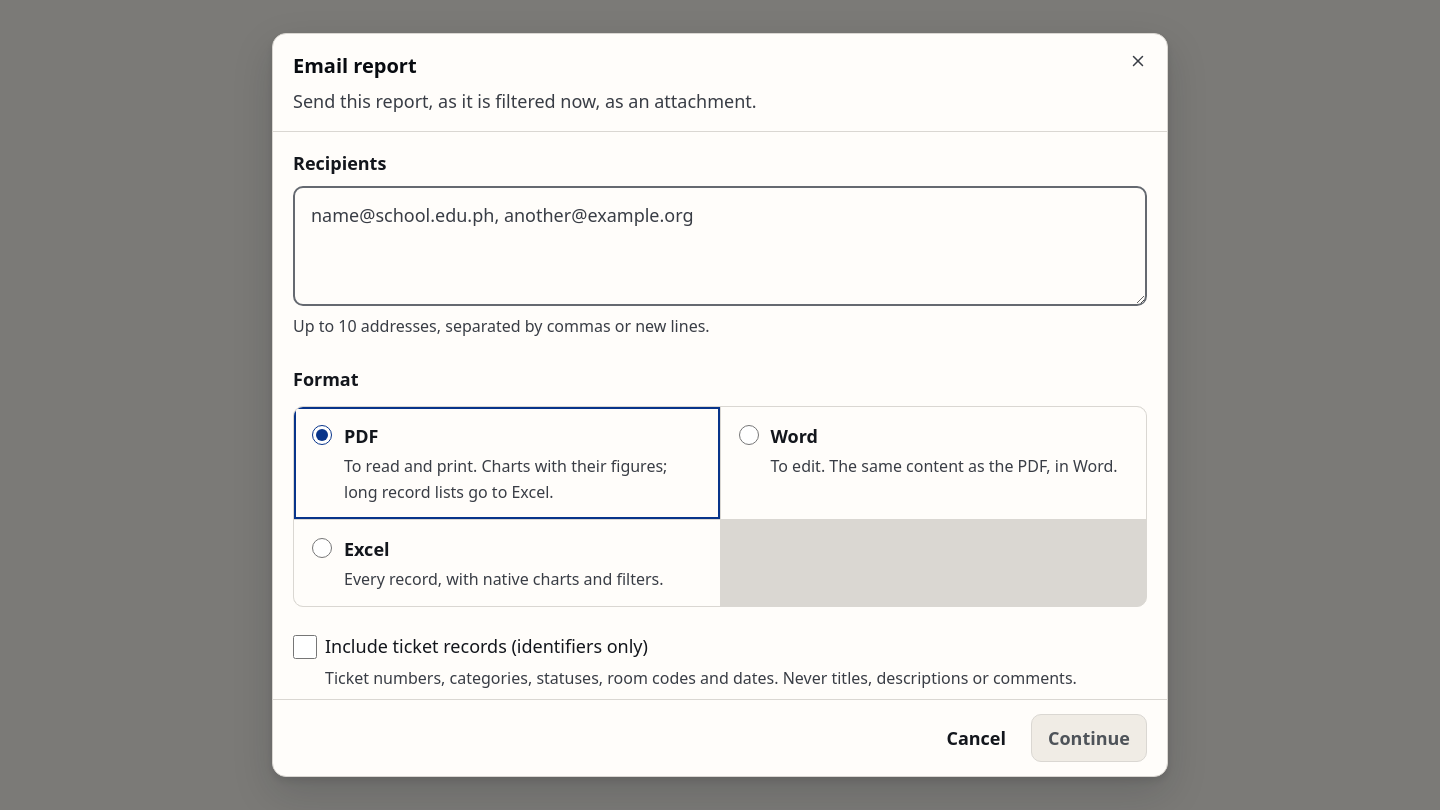
Scenario: EmailReportDialog › checks, asks to confirm outside addresses, and sends exactly those
The image size is (1440, 810).
Type "Head@sccit.local, auditor@example.org" into the text box labelled "Recipients" at [720, 246], box x1=293 y1=186 x2=1147 y2=306
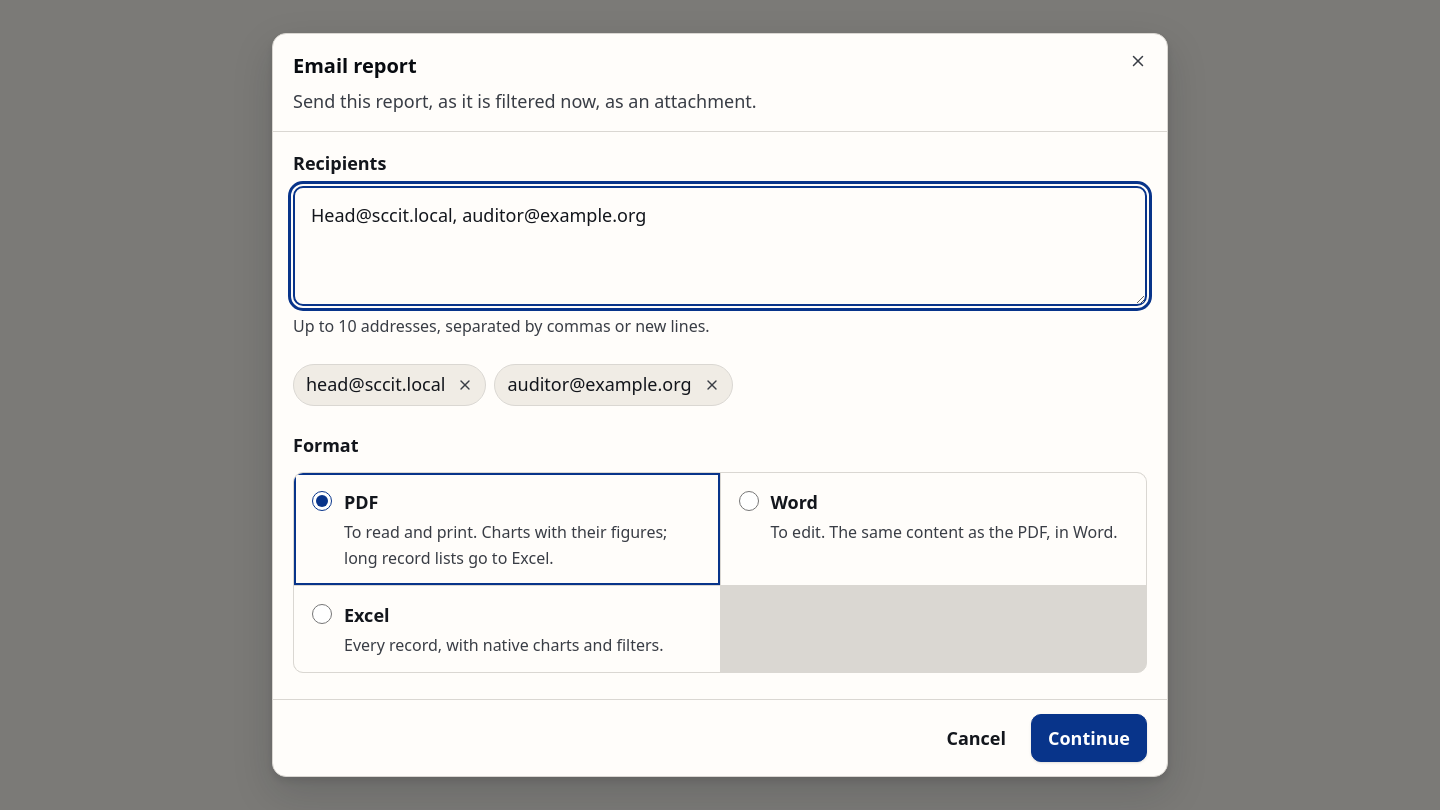
Check: the list named "Recipients" shows "head@sccit.local", box x1=306 y1=372 x2=445 y2=396
Click the button "Continue" at [1089, 738], box x1=1031 y1=714 x2=1147 y2=762
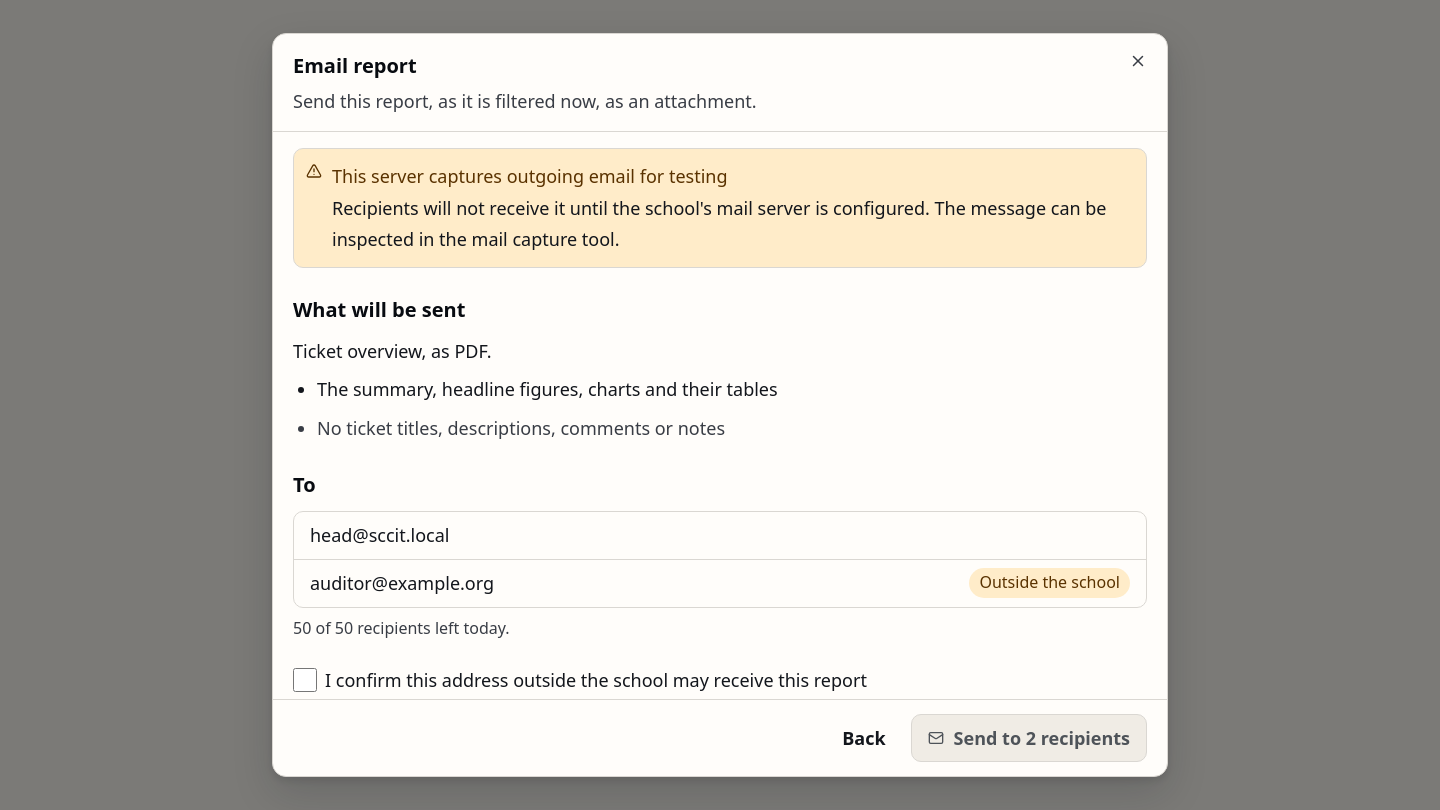
Check: the text "This server captures outgoing email for testing" is shown, box x1=332 y1=164 x2=728 y2=188
Check: the text "Outside the school" is shown, box x1=970 y1=568 x2=1130 y2=598
Check: the list item "No ticket titles, descriptions, comments or notes" is shown, box x1=317 y1=416 x2=725 y2=440
Click the checkbox labelled "this address outside the school" at [305, 680], box x1=293 y1=668 x2=317 y2=692
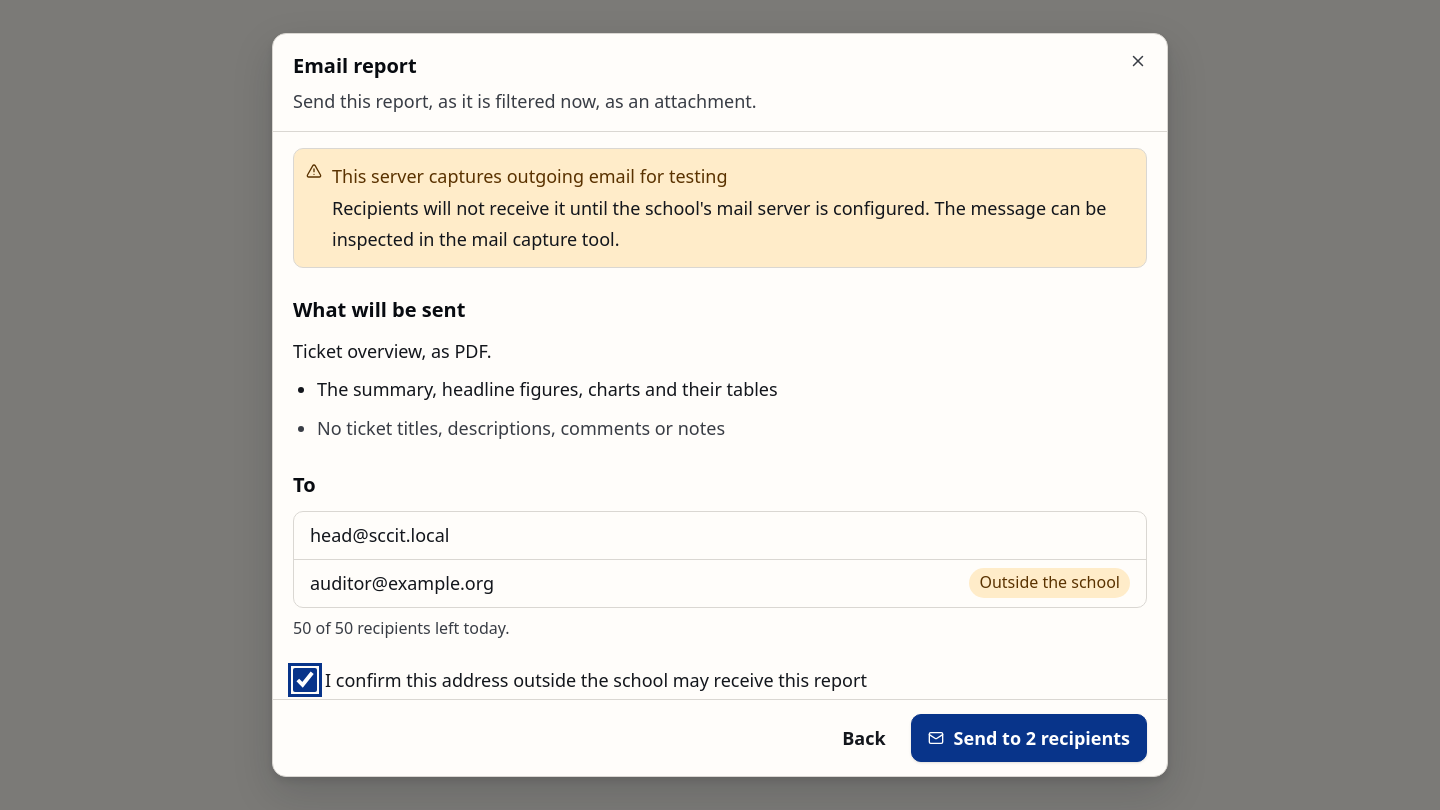
Click the button "Send to 2 recipients" at [1029, 738], box x1=911 y1=714 x2=1147 y2=762
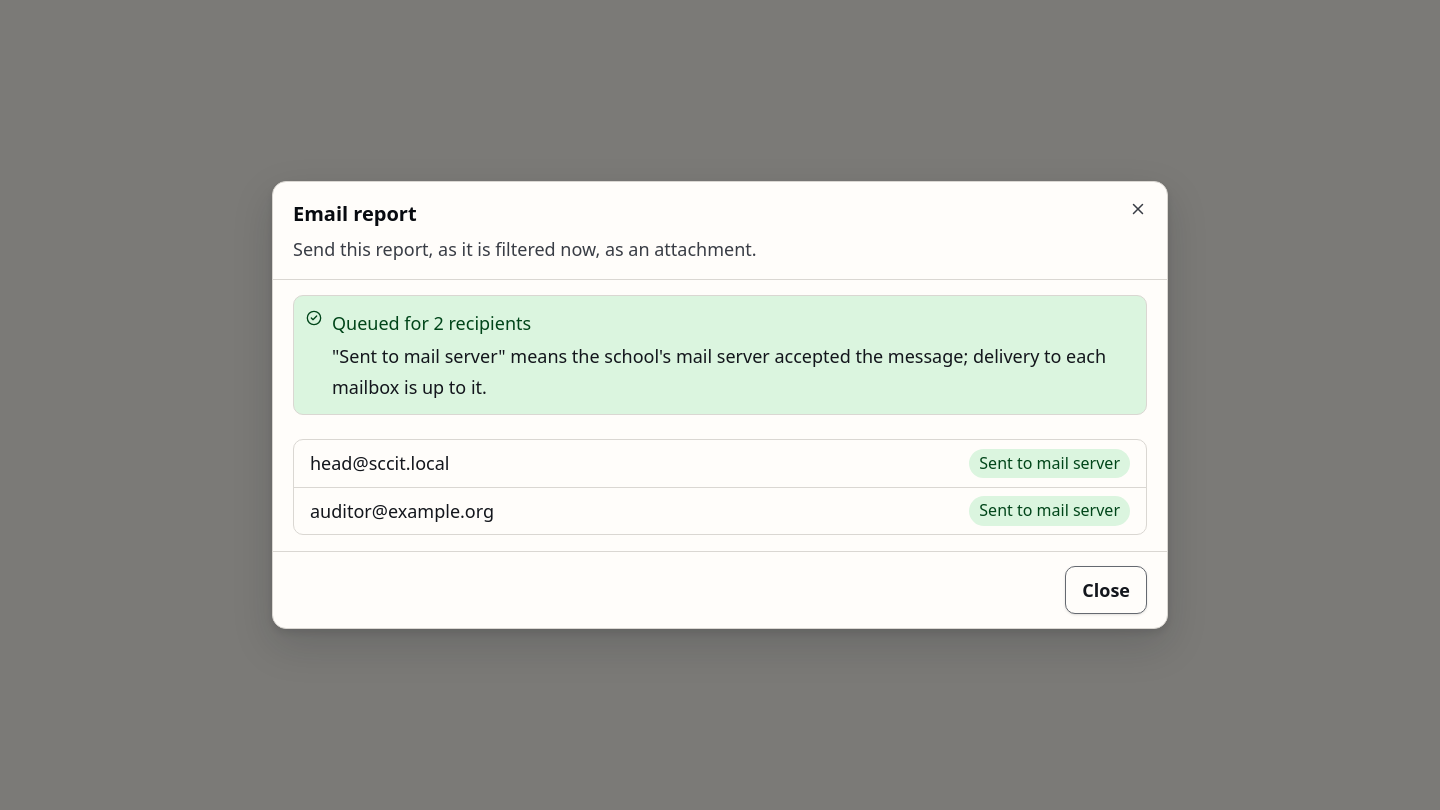
Check: the text "Sent to mail server" is shown 2 times, box x1=969 y1=449 x2=1130 y2=478; x1=969 y1=496 x2=1130 y2=526
